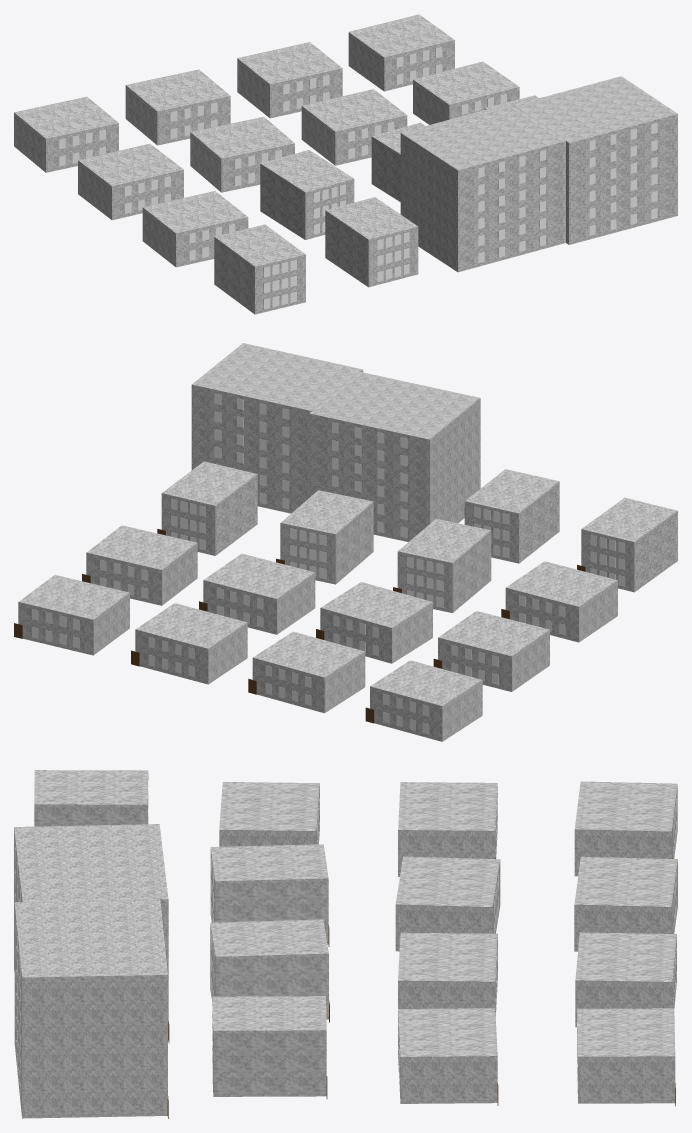
The model's file is bld_mlnf0p2h_co4n0kd.glb.
3 renders of one model, top to bottom at view 1: azimuth 30°, elevation 25°; view 2: azimuth 150°, elevation 25°; view 3: azimuth 270°, elevation 25°, orthographic. The views are drawn at different scales.
Visible parts, largest first — view 1: building-building-1771139985448-18, building-building-1771139985448-19, building-building-1771139985448-17, building-building-1771139985448-16, building-building-1771139985448-4, building-building-1771139985448-12, building-building-1771139985448-6, building-building-1771139985448-3, building-building-1771139985448-2, building-building-1771139985448-1, building-building-1771139985448-11, building-building-1771139985448-8 (+3 smaller); view 2: building-building-1771139985448-18, building-building-1771139985448-19, building-building-1771139985448-2, building-building-1771139985448-1, building-building-1771139985448-3, building-building-1771139985448-4, building-building-1771139985448-14, building-building-1771139985448-16, building-building-1771139985448-7, building-building-1771139985448-8, building-building-1771139985448-11, building-building-1771139985448-12 (+4 smaller); view 3: building-building-1771139985448-19, building-building-1771139985448-18, building-building-1771139985448-14, building-building-1771139985448-9, building-building-1771139985448-4, building-building-1771139985448-13, building-building-1771139985448-12, building-building-1771139985448-7, building-building-1771139985448-1, building-building-1771139985448-2, building-building-1771139985448-3, building-building-1771139985448-6 (+3 smaller).
Boxes of the visible parts, left/top/right/bottom form: building-building-1771139985448-18: left=400, top=103, right=565, bottom=272; building-building-1771139985448-19: left=513, top=76, right=677, bottom=244; building-building-1771139985448-17: left=325, top=197, right=418, bottom=287; building-building-1771139985448-16: left=214, top=224, right=305, bottom=314; building-building-1771139985448-4: left=348, top=14, right=454, bottom=91; building-building-1771139985448-12: left=260, top=150, right=354, bottom=239; building-building-1771139985448-6: left=78, top=143, right=183, bottom=220; building-building-1771139985448-3: left=237, top=42, right=342, bottom=118; building-building-1771139985448-2: left=125, top=69, right=230, bottom=145; building-building-1771139985448-1: left=14, top=96, right=118, bottom=172; building-building-1771139985448-11: left=142, top=191, right=248, bottom=267; building-building-1771139985448-8: left=301, top=89, right=407, bottom=165; building-building-1771139985448-18: left=309, top=372, right=480, bottom=541; building-building-1771139985448-19: left=191, top=343, right=363, bottom=513; building-building-1771139985448-2: left=248, top=631, right=365, bottom=713; building-building-1771139985448-1: left=365, top=660, right=482, bottom=741; building-building-1771139985448-3: left=131, top=603, right=247, bottom=684; building-building-1771139985448-4: left=14, top=575, right=129, bottom=655; building-building-1771139985448-14: left=157, top=461, right=257, bottom=555; building-building-1771139985448-16: left=577, top=497, right=677, bottom=592; building-building-1771139985448-7: left=316, top=582, right=432, bottom=663; building-building-1771139985448-8: left=199, top=553, right=315, bottom=634; building-building-1771139985448-11: left=501, top=561, right=617, bottom=642; building-building-1771139985448-12: left=393, top=518, right=491, bottom=612; building-building-1771139985448-19: left=14, top=899, right=168, bottom=1118; building-building-1771139985448-18: left=14, top=824, right=169, bottom=1042; building-building-1771139985448-14: left=212, top=996, right=327, bottom=1098; building-building-1771139985448-9: left=398, top=1008, right=498, bottom=1105; building-building-1771139985448-4: left=577, top=1008, right=675, bottom=1106; building-building-1771139985448-13: left=210, top=919, right=329, bottom=1022; building-building-1771139985448-12: left=210, top=844, right=329, bottom=946; building-building-1771139985448-7: left=395, top=856, right=500, bottom=951; building-building-1771139985448-1: left=574, top=781, right=677, bottom=876; building-building-1771139985448-2: left=574, top=856, right=677, bottom=951; building-building-1771139985448-3: left=575, top=932, right=676, bottom=1027; building-building-1771139985448-6: left=398, top=782, right=497, bottom=876.
Size of the model in its own units: 84.72 by 19.23 by 81.92.
Materials: 80 (16 with a texture image).
